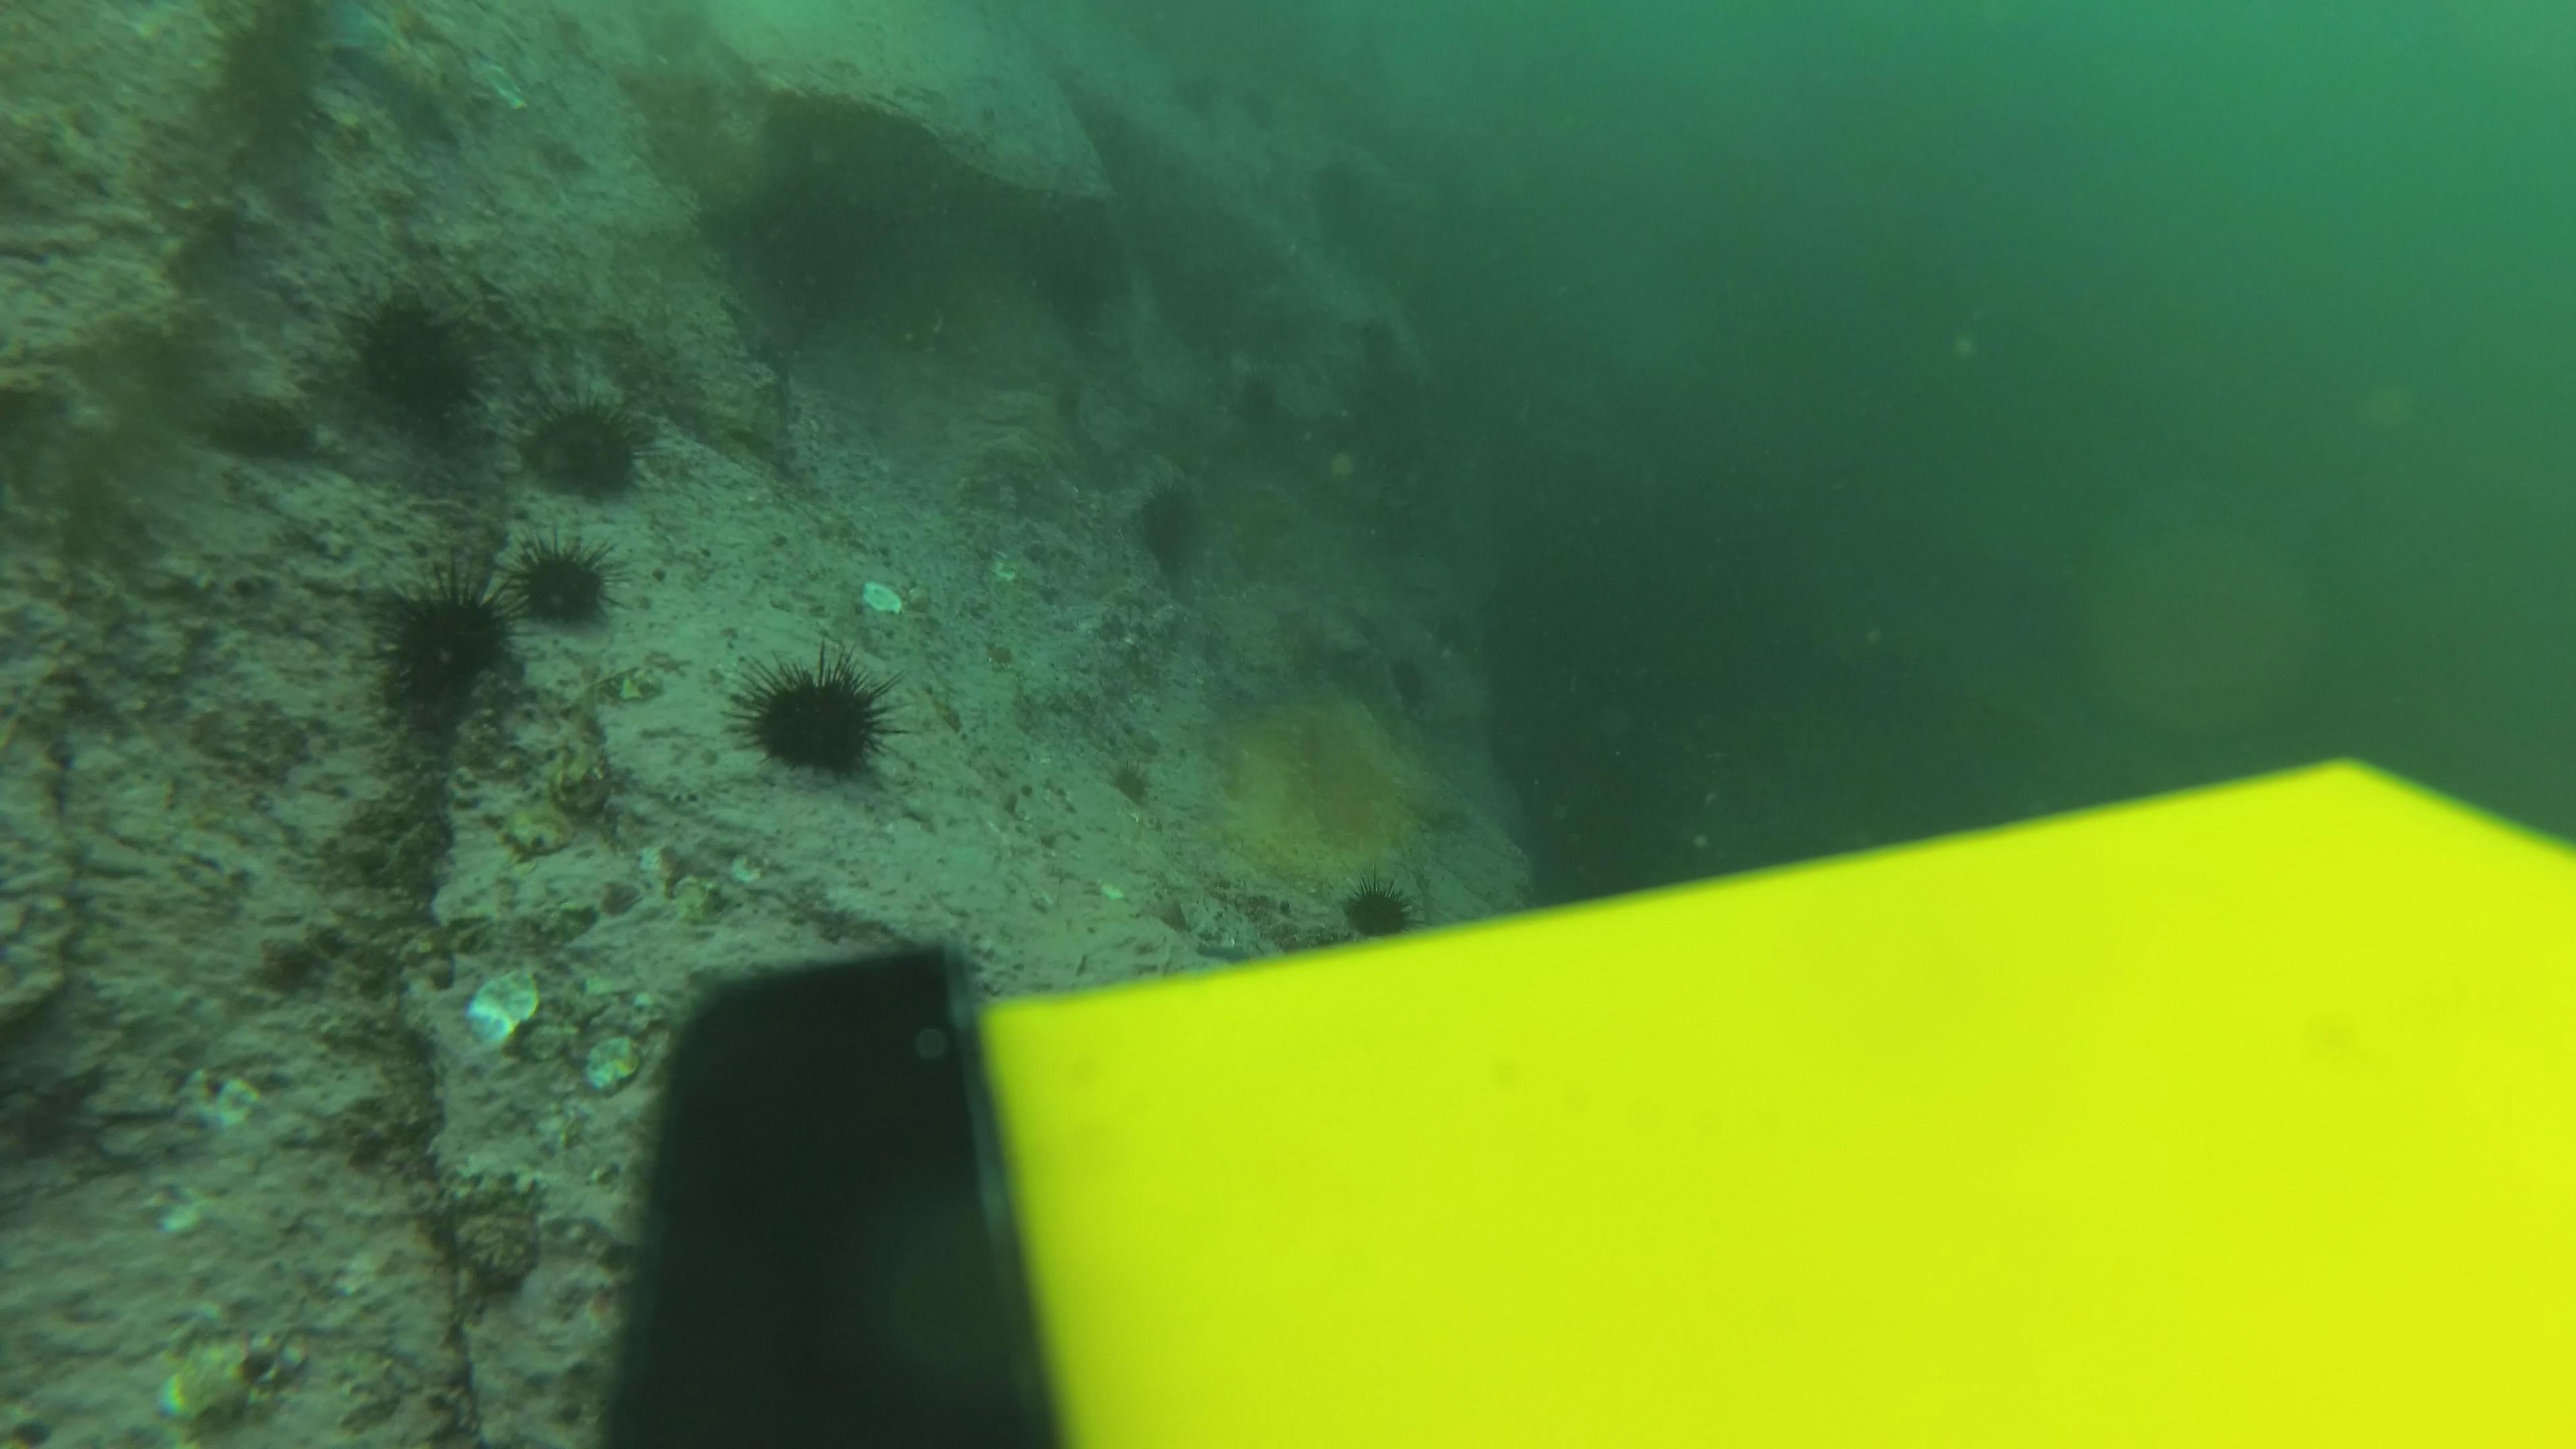echinus: (196, 4, 357, 166), (731, 648, 902, 786), (370, 571, 522, 718), (340, 287, 490, 430), (517, 387, 658, 504), (499, 533, 621, 635), (1125, 476, 1212, 575), (1332, 872, 1426, 947)
starfish: (318, 7, 492, 150)
